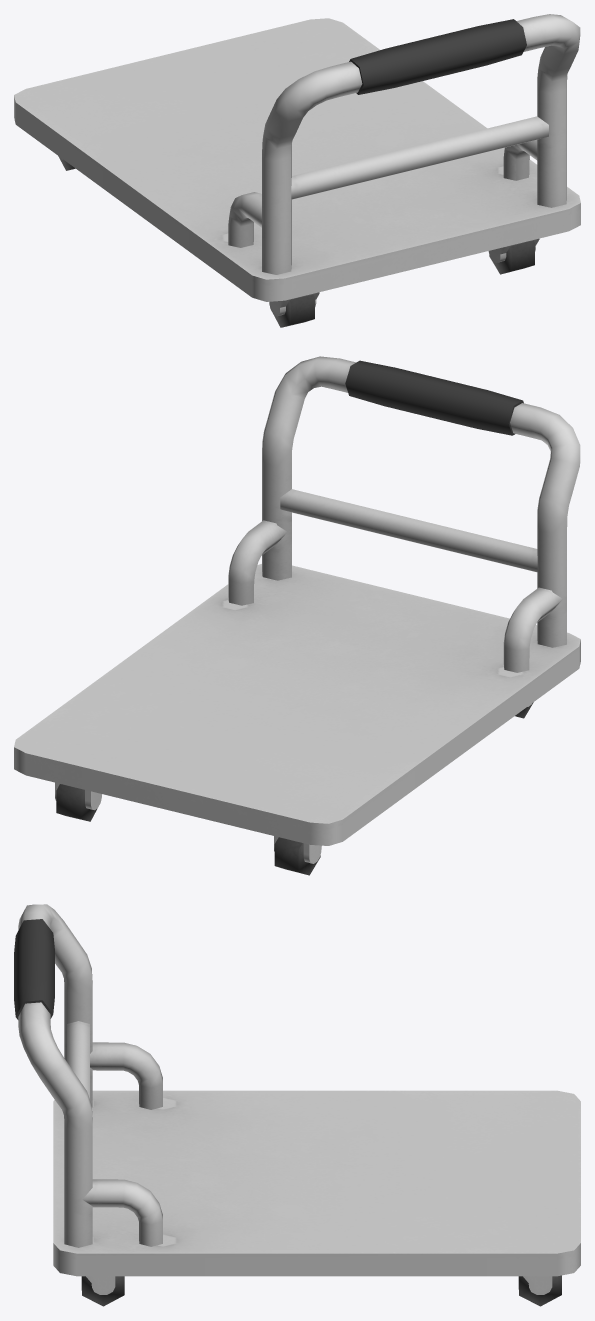
File: Pfb_ShoppingTrolley.fbx
The picture shows the model from 3 angles, top to bottom: view 1: azimuth 30°, elevation 25°; view 2: azimuth 150°, elevation 25°; view 3: azimuth 270°, elevation 25°; orthographic projection.
Visible parts, largest first — view 1: Mat_Shopping; view 2: Mat_Shopping; view 3: Mat_Shopping.
Part boxes in pixels (<box>): Mat_Shopping: <box>14,14,580,327</box>; Mat_Shopping: <box>14,356,580,875</box>; Mat_Shopping: <box>14,904,580,1306</box>.
Size of the model in its own units: 1.25 by 1.03 by 1.84.
1 material, 1 textured.
